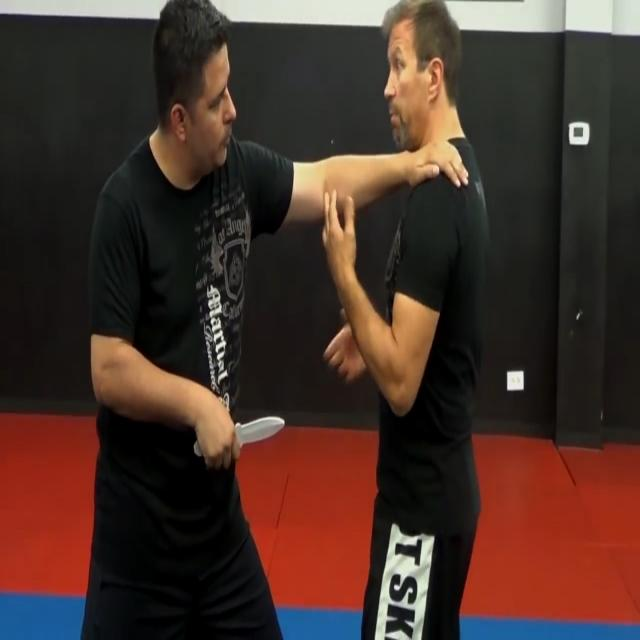knife: (236, 412, 289, 461)
